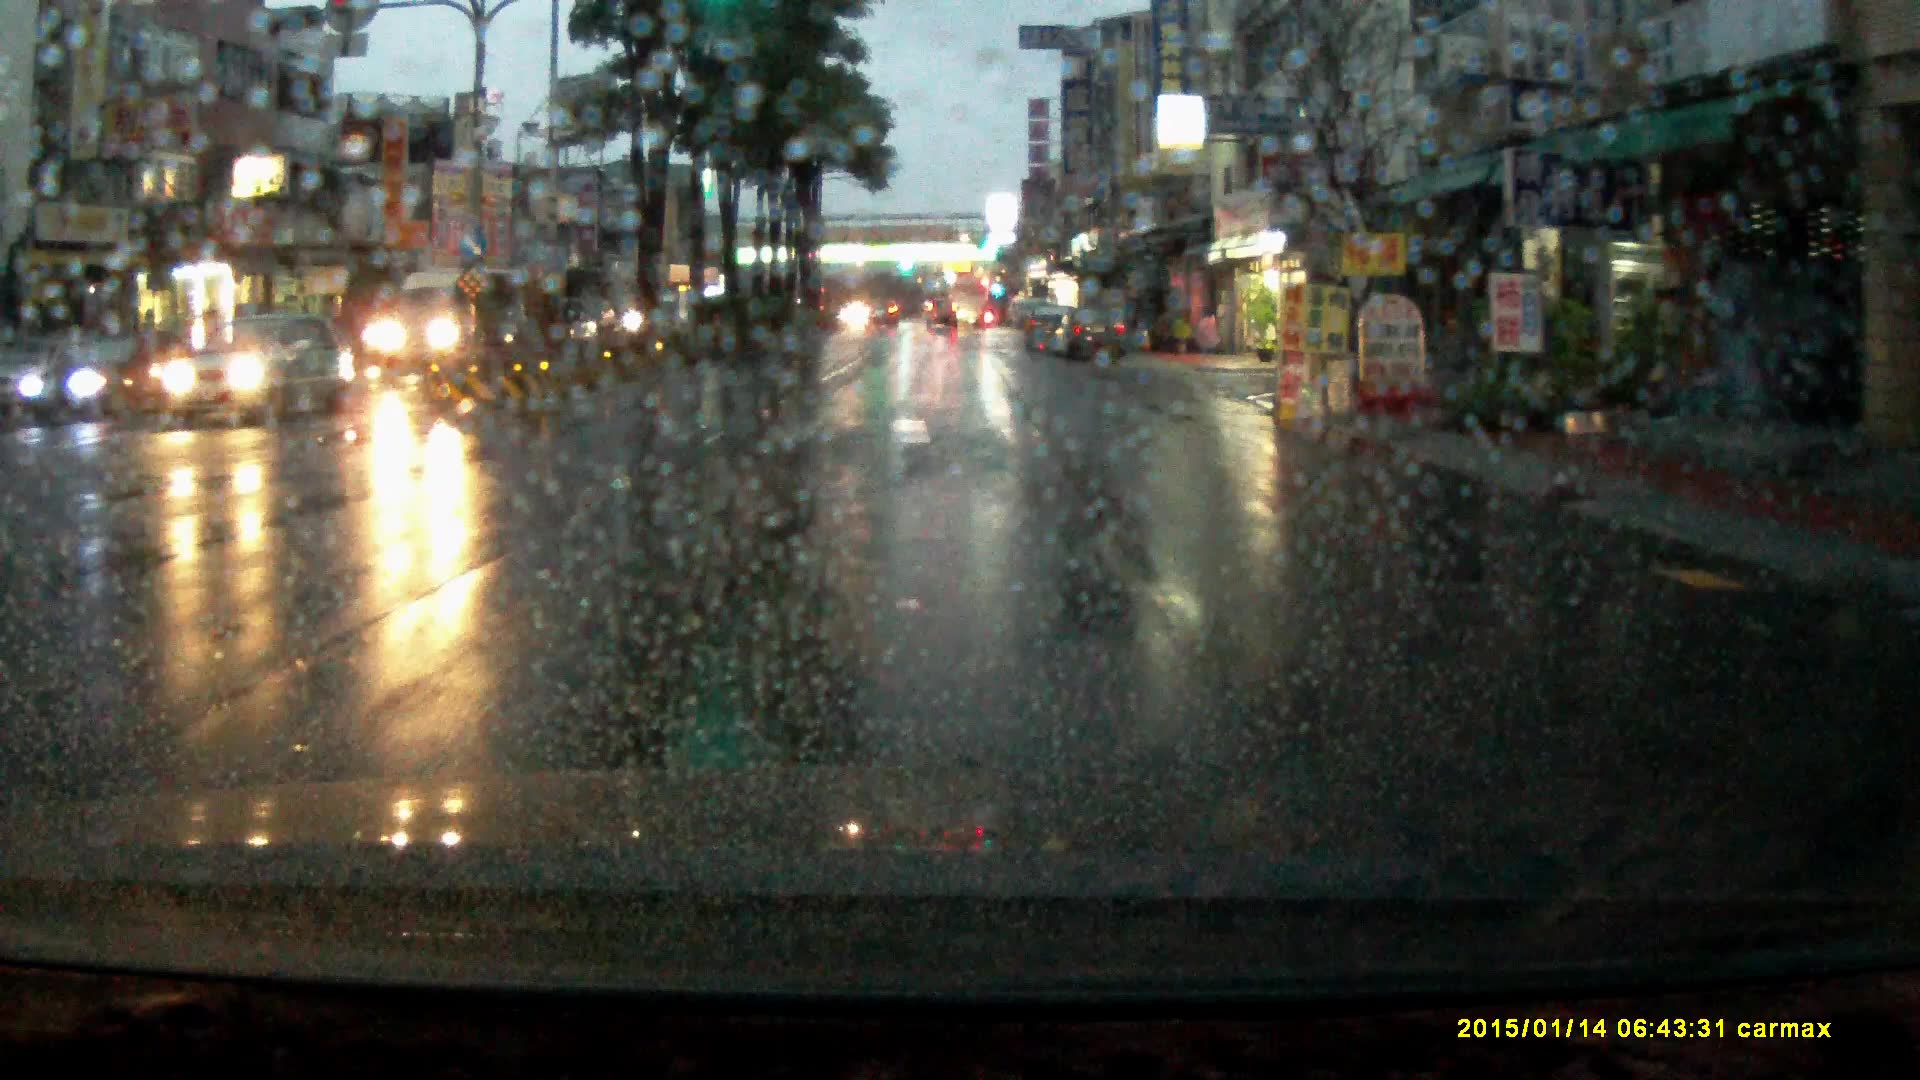vehicle: (157, 319, 356, 433), (373, 262, 518, 390), (20, 336, 164, 425), (1055, 307, 1130, 363), (1022, 303, 1073, 353), (948, 273, 988, 328), (927, 297, 959, 334), (865, 299, 899, 331)
